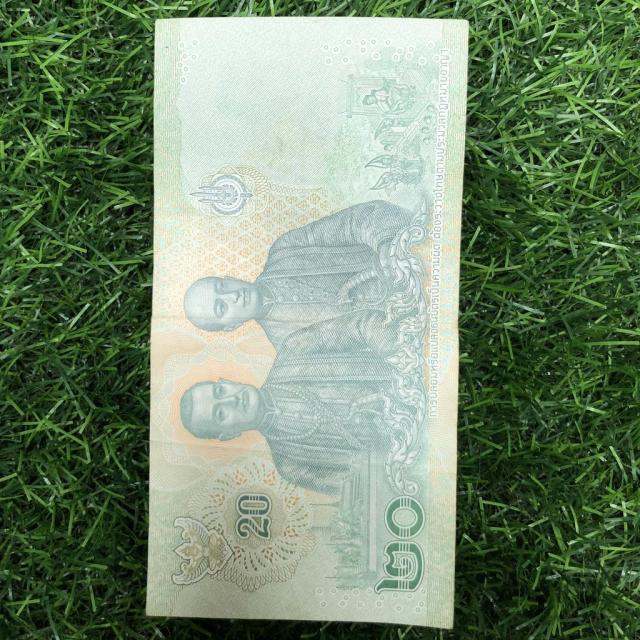THAI20: (148, 18, 467, 627)
